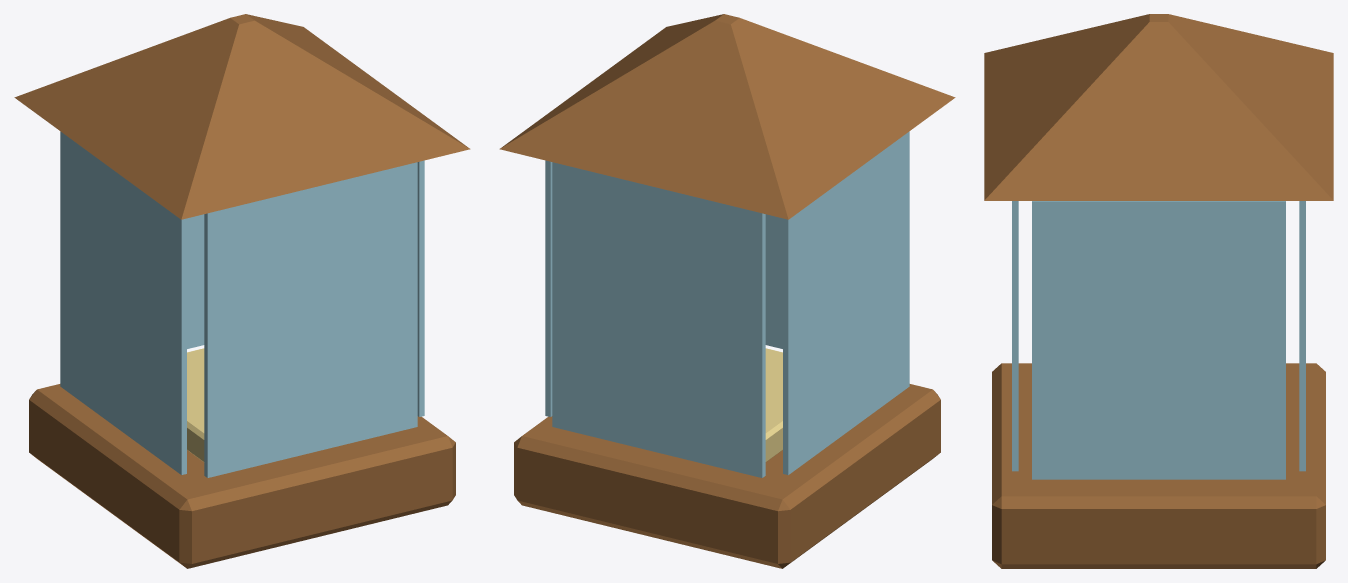
The model's file is Prop_WZ_EggIncubator_LOD1.glb.
The picture shows the model from 3 angles, left to right: view 1: azimuth 30°, elevation 25°; view 2: azimuth 150°, elevation 25°; view 3: azimuth 270°, elevation 25°; orthographic projection. The views are drawn at different scales.
Parts seen in each view (by area): view 1: Prop_WZ_EggIncubator; view 2: Prop_WZ_EggIncubator; view 3: Prop_WZ_EggIncubator.
Boxes of the visible parts, x1=… form: Prop_WZ_EggIncubator: x1=14, y1=14, x2=470, y2=568; Prop_WZ_EggIncubator: x1=499, y1=14, x2=955, y2=568; Prop_WZ_EggIncubator: x1=984, y1=14, x2=1333, y2=568.
Bounding box in the file's own units: 0.5233 × 0.8 × 0.5233.
